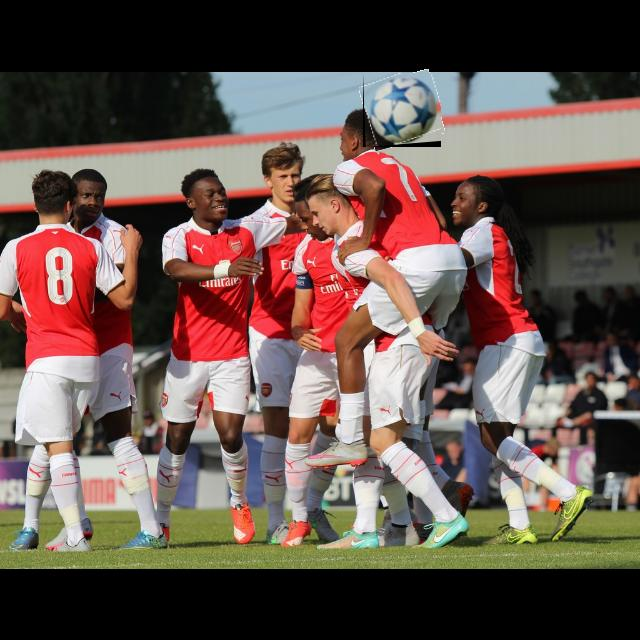Football: (363, 73, 441, 147)
